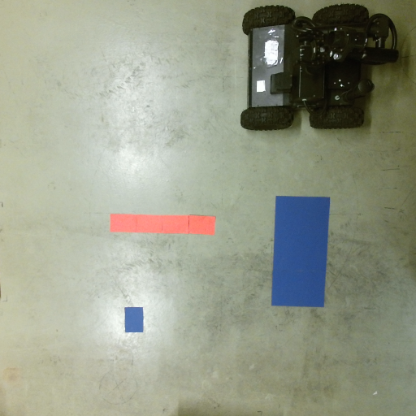Blue: (272, 194, 326, 306), (123, 307, 145, 334)
Jaguar: (239, 5, 402, 130)
Red: (107, 211, 217, 236)
